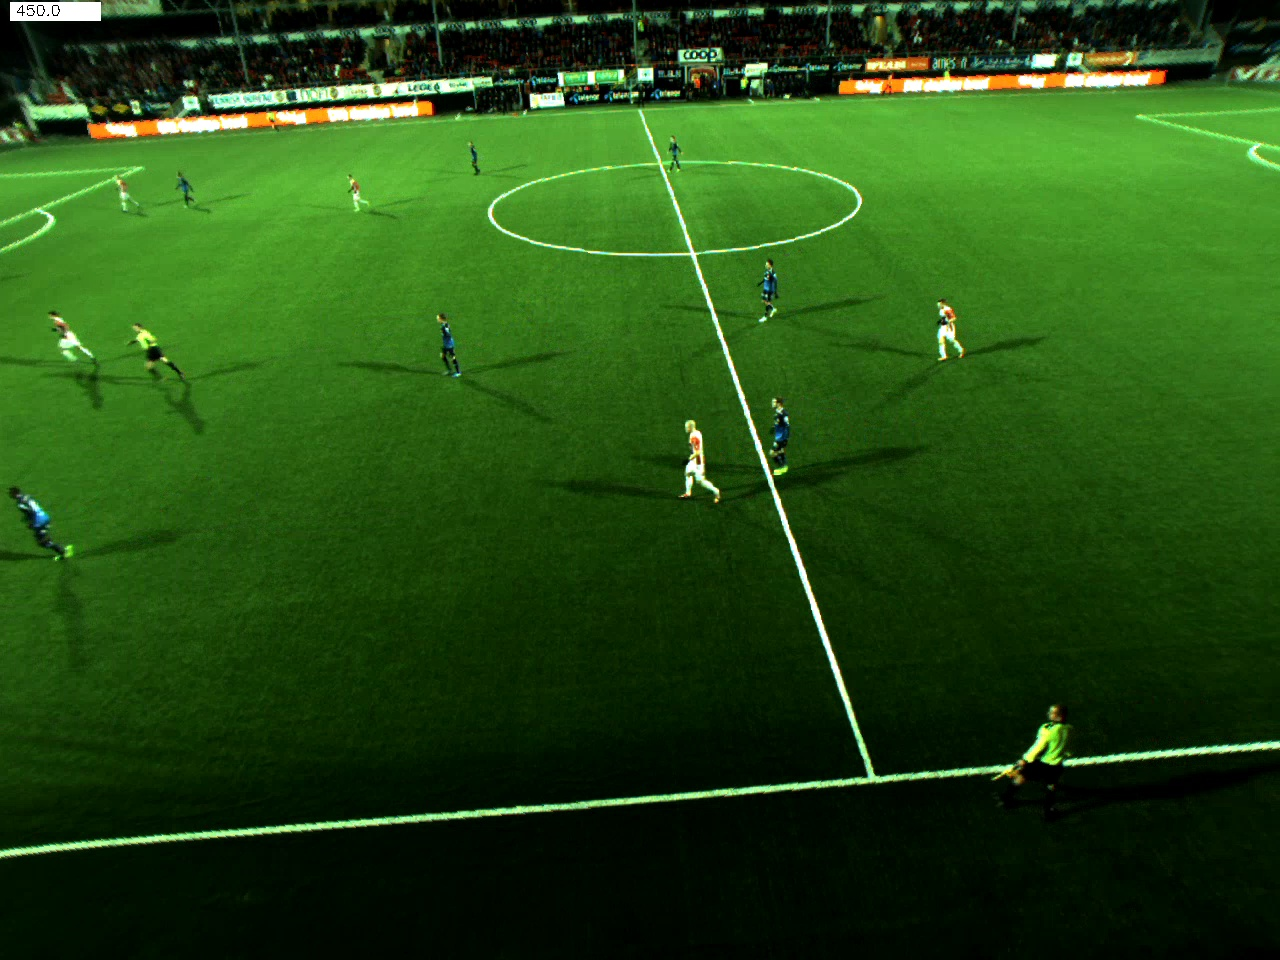blue: (9, 473, 89, 571), (738, 260, 785, 331), (433, 313, 478, 381), (763, 398, 803, 471), (163, 169, 202, 225), (460, 131, 489, 179), (662, 131, 680, 184)
red: (674, 406, 730, 509), (46, 312, 94, 378), (920, 299, 964, 366), (105, 171, 144, 213), (346, 173, 376, 216)
yellow: (994, 703, 1089, 814), (120, 316, 181, 387)
